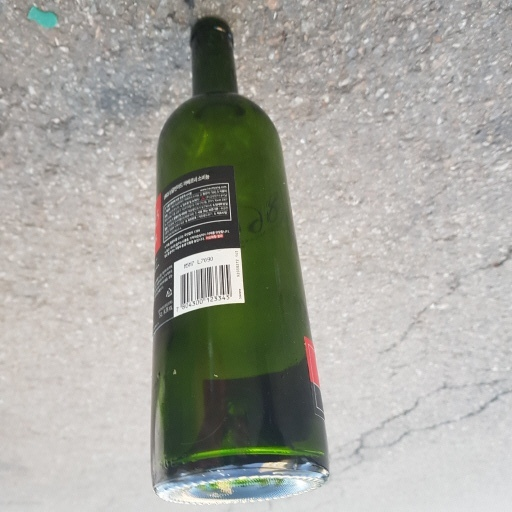Glass_2: (146, 14, 331, 501)
